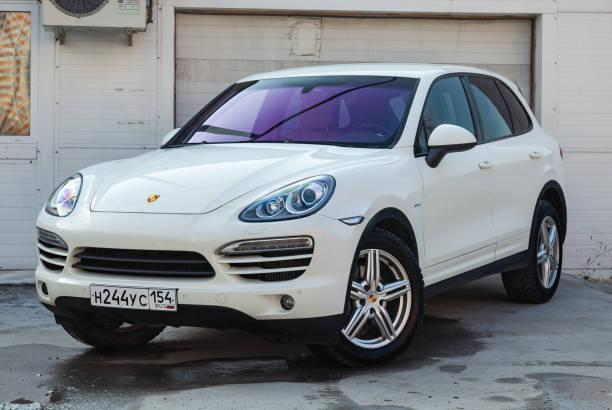porsche: (141, 191, 167, 207)
